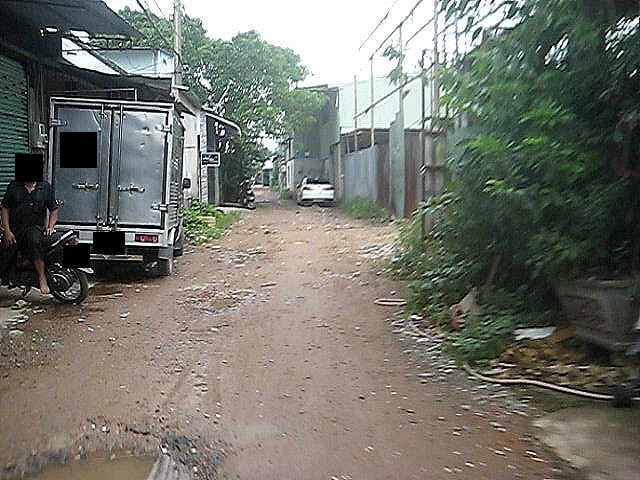hole: (1, 418, 232, 480), (171, 280, 263, 326), (210, 248, 265, 270)
